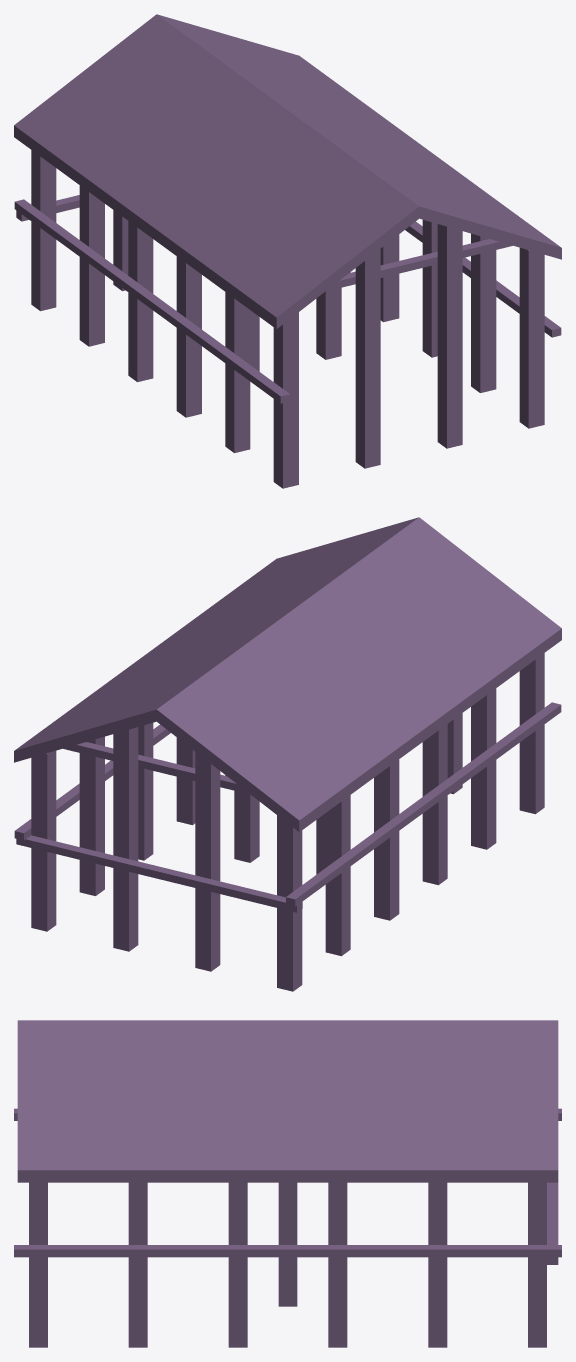
Rendered from building_storage_shack.fbx.
3 views of the same model, one above another, from view 1: azimuth 30°, elevation 25°; view 2: azimuth 150°, elevation 25°; view 3: azimuth 270°, elevation 25° (orthographic). The views are drawn at different scales.
Parts seen in each view (by area): view 1: building_storage_shack, posts, beams; view 2: building_storage_shack, posts, beams; view 3: building_storage_shack, posts, beams.
Part boxes in pixels (x1=…): building_storage_shack: x1=14, y1=14, x2=561, y2=329; posts: x1=31, y1=150, x2=544, y2=488; beams: x1=14, y1=195, x2=561, y2=403; building_storage_shack: x1=14, y1=517, x2=561, y2=832; posts: x1=31, y1=653, x2=544, y2=991; beams: x1=14, y1=702, x2=561, y2=912; building_storage_shack: x1=17, y1=1020, x2=558, y2=1182; posts: x1=29, y1=1182, x2=546, y2=1347; beams: x1=14, y1=1108, x2=561, y2=1264.
Size of the model in its own units: 8.54 by 7.27 by 13.79.
